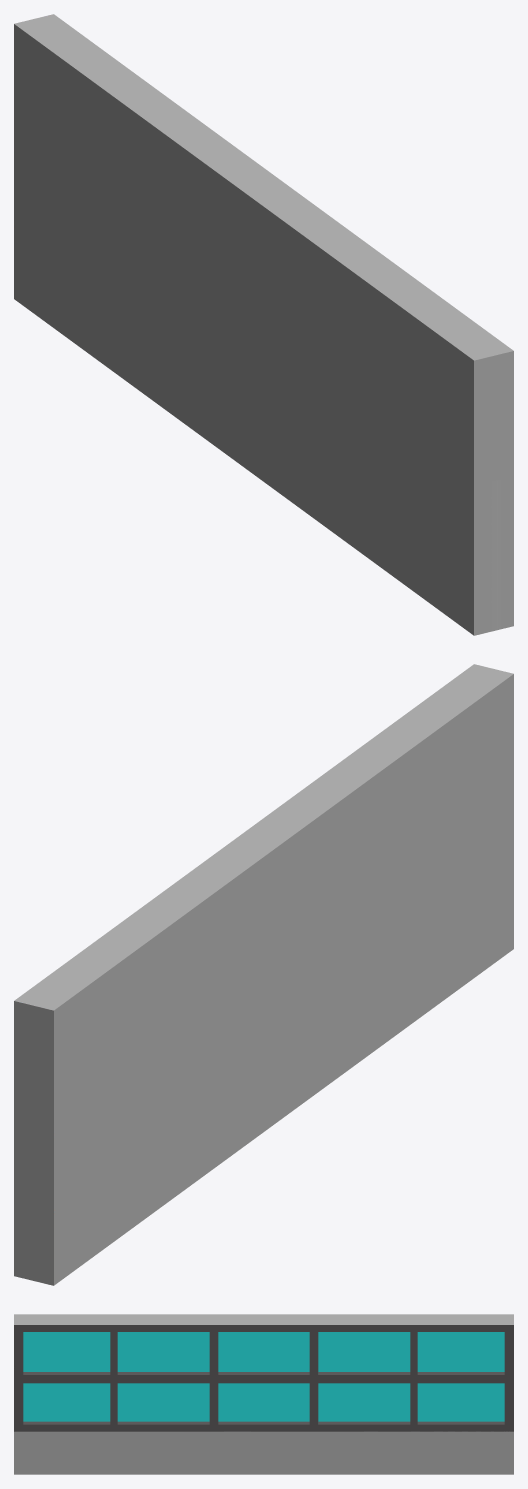
Rendered from wall-with-windows.fbx.
3 views of the same model, one above another, from view 1: azimuth 30°, elevation 25°; view 2: azimuth 150°, elevation 25°; view 3: azimuth 270°, elevation 25° (orthographic). The views are drawn at different scales.
Parts seen in each view (by area): view 1: polySurface1; view 2: polySurface1; view 3: polySurface1.
Boxes of the visible parts, bbox=[...] form: polySurface1: bbox=[14, 14, 513, 635]; polySurface1: bbox=[14, 664, 513, 1285]; polySurface1: bbox=[14, 1314, 513, 1474].
Bounding box in the file's own units: 0.5 × 3.3 × 10.
Materials: 1 (1 with a texture image).
